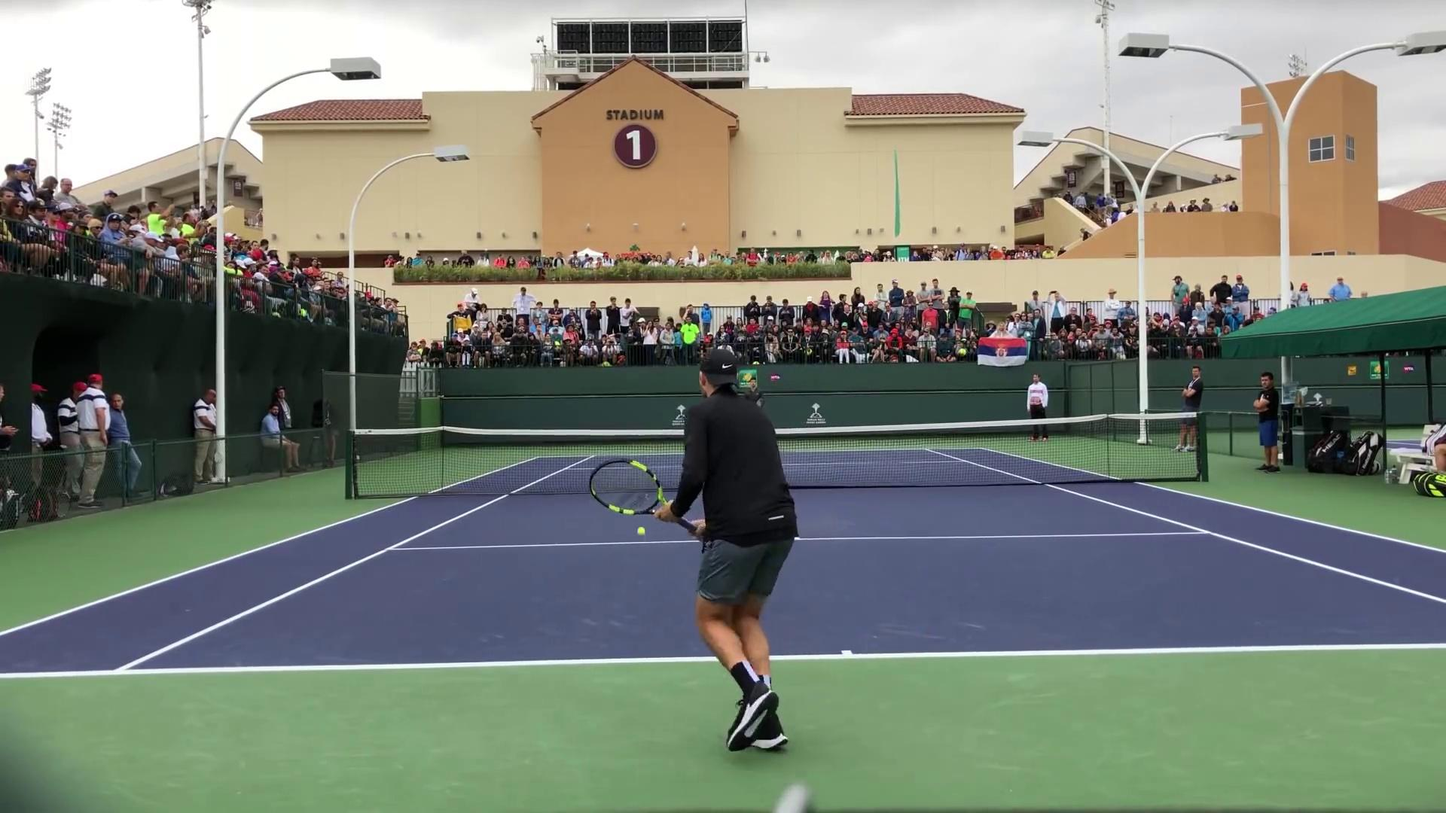ball: (637, 527, 647, 535)
